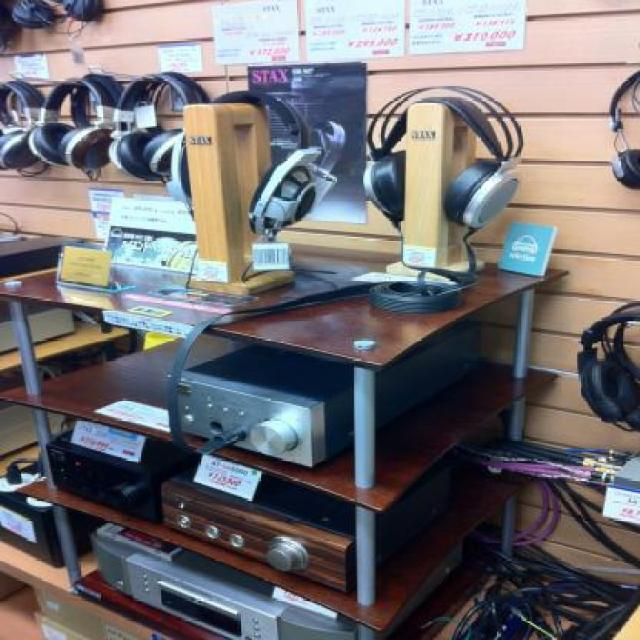earphone: (360, 78, 530, 240), (178, 120, 345, 262), (108, 48, 207, 155), (570, 298, 640, 428), (38, 70, 132, 162), (588, 70, 640, 188), (3, 68, 50, 180)
